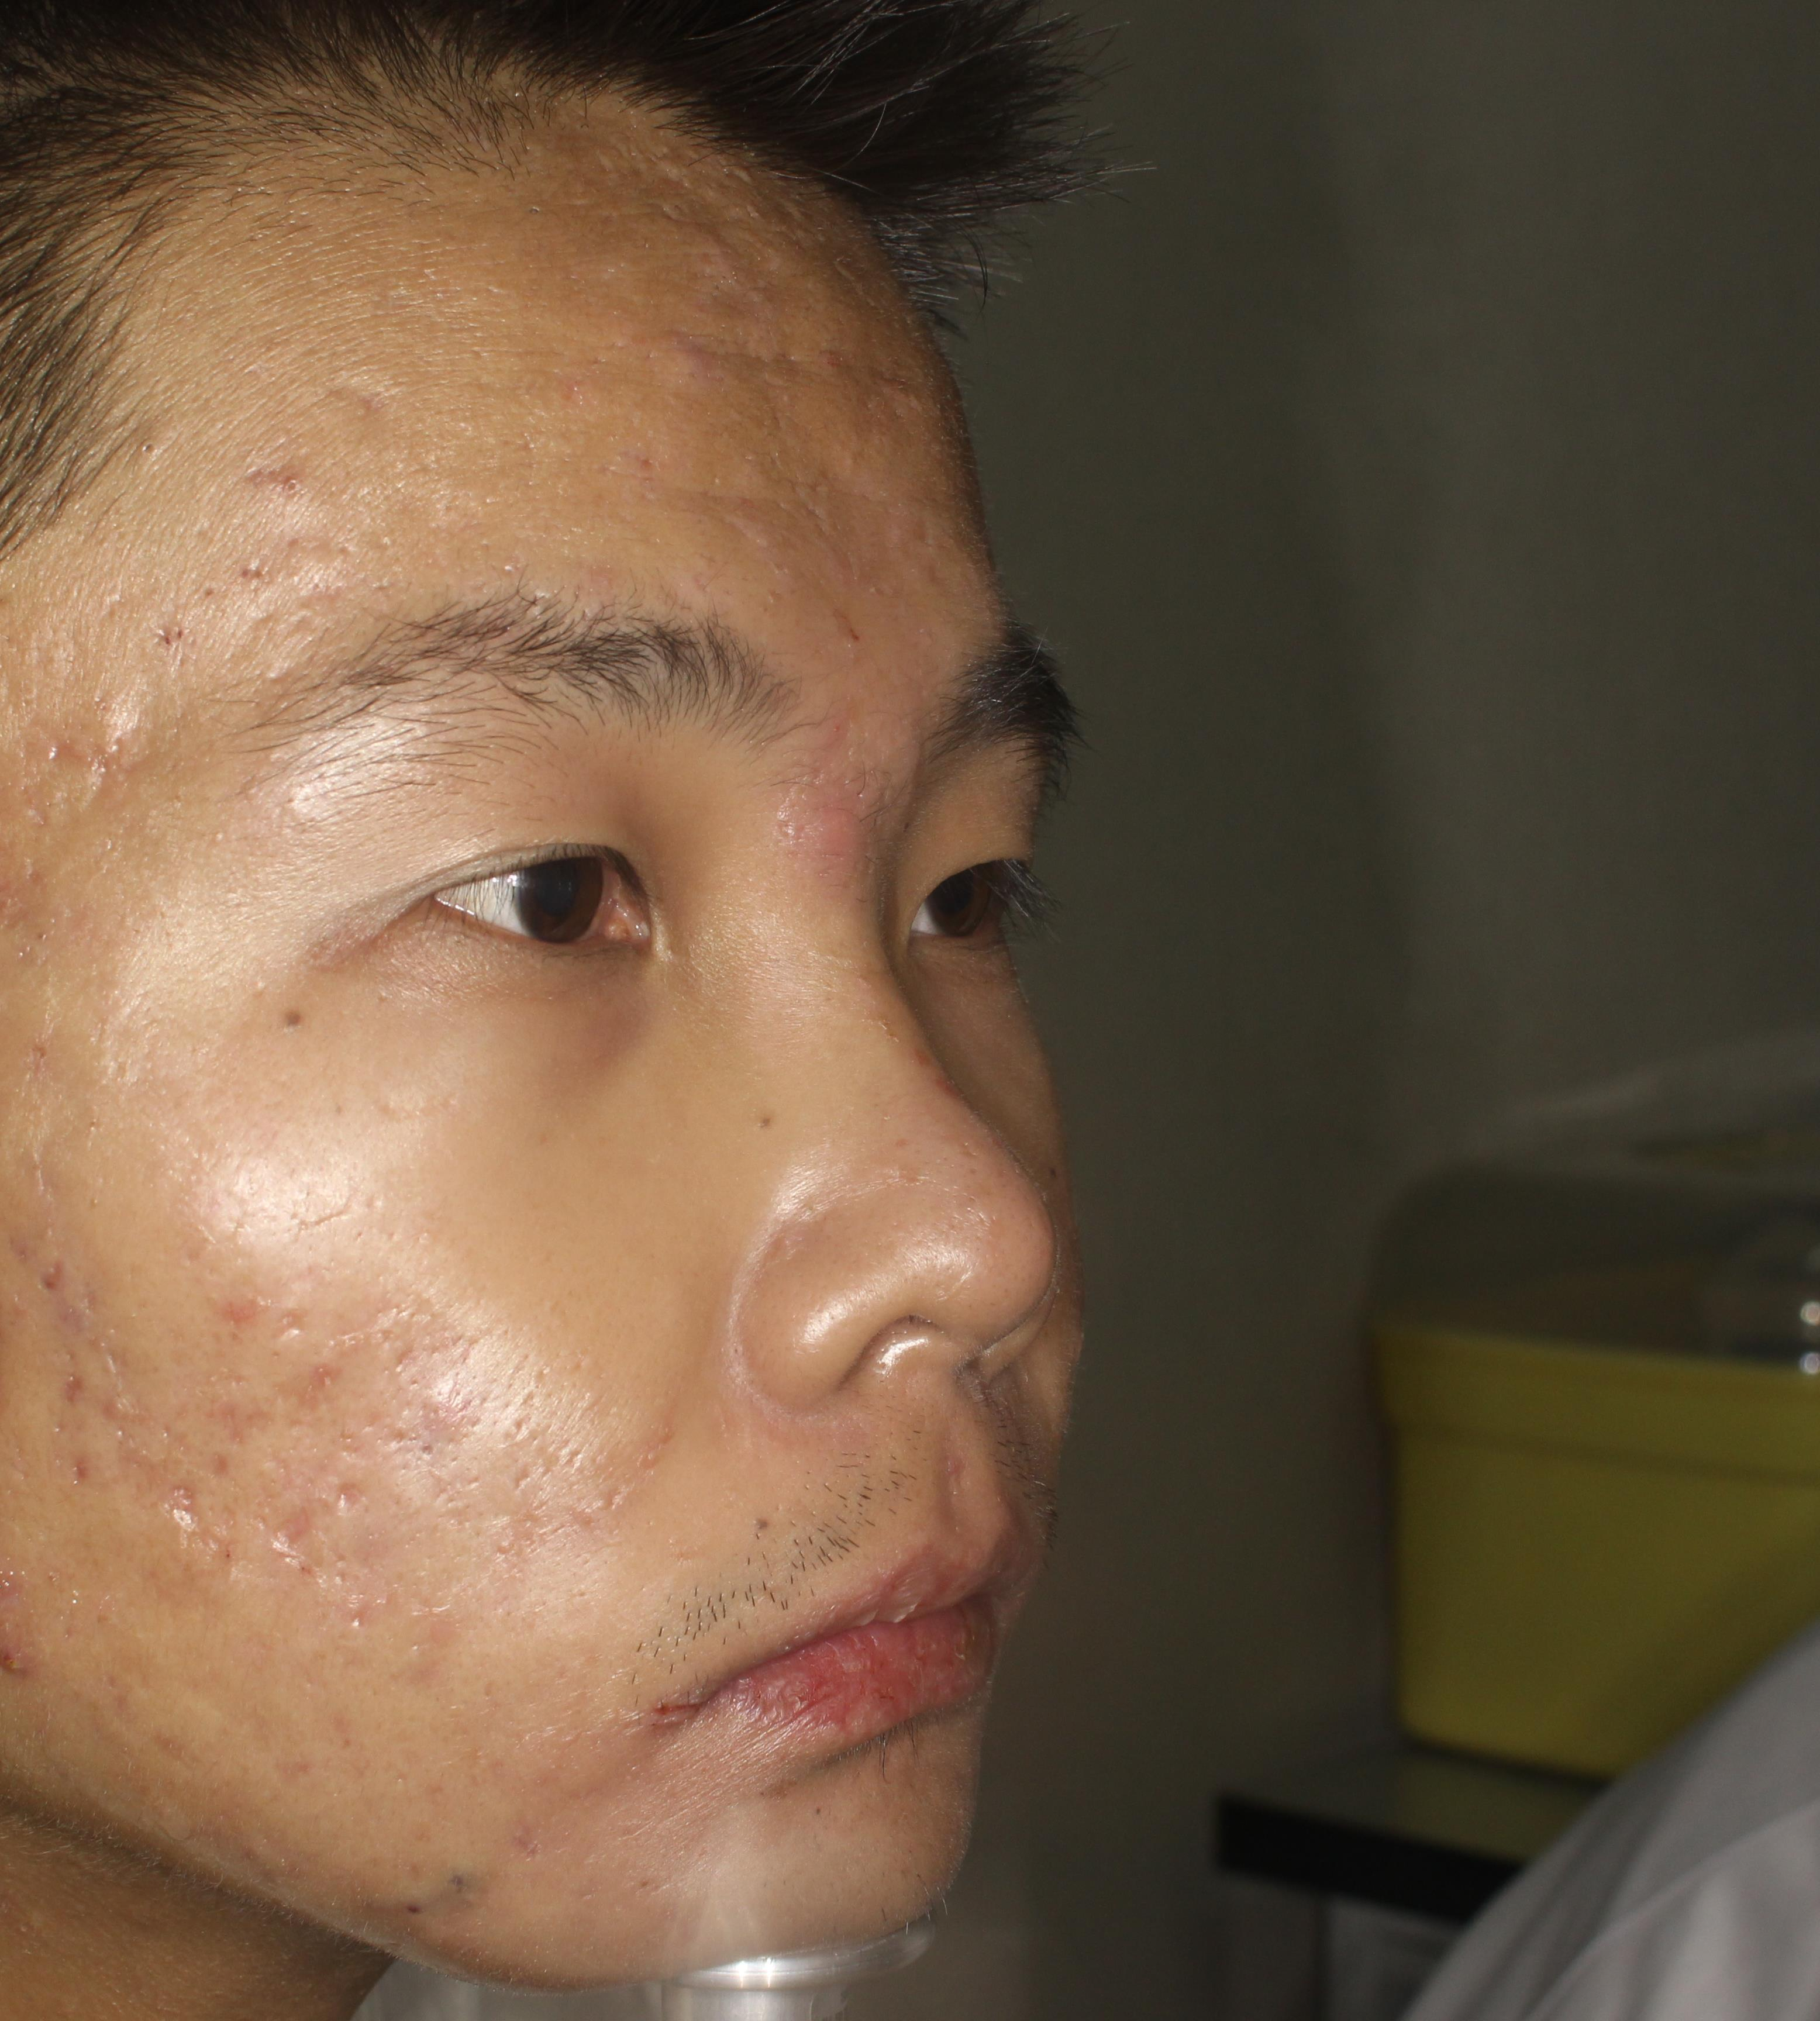fore: (37, 1338, 132, 1459), (204, 1384, 306, 1477), (383, 1408, 476, 1489), (184, 1289, 292, 1347), (230, 451, 300, 527), (11, 1608, 60, 1715)
